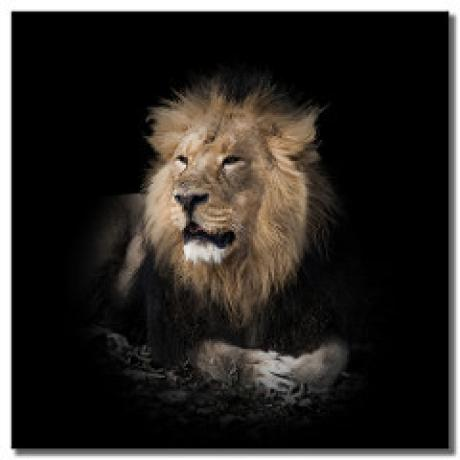Lion: (90, 76, 352, 400)
